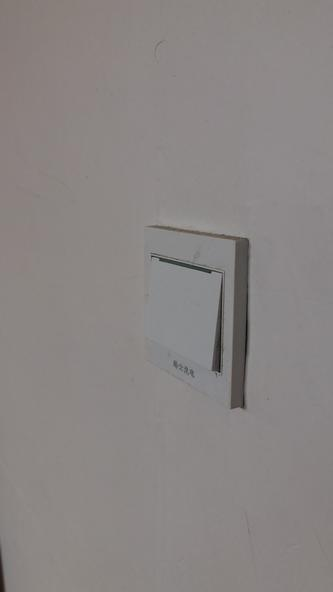switch: (146, 248, 226, 371)
